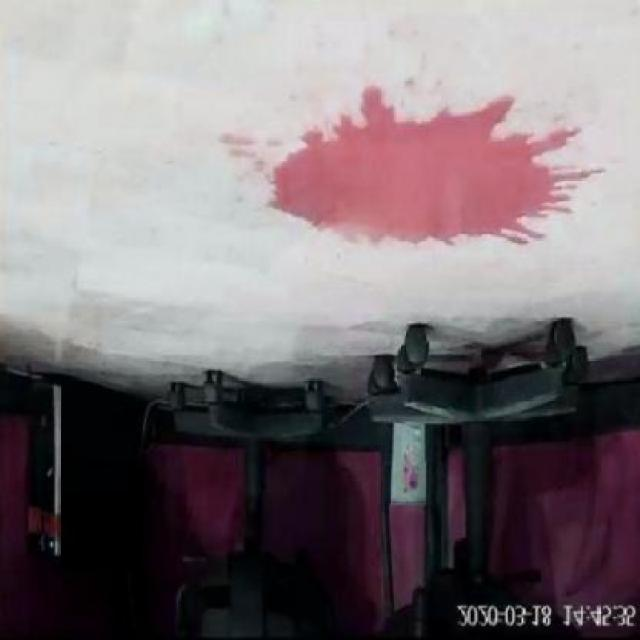spillage: (266, 85, 590, 245)
